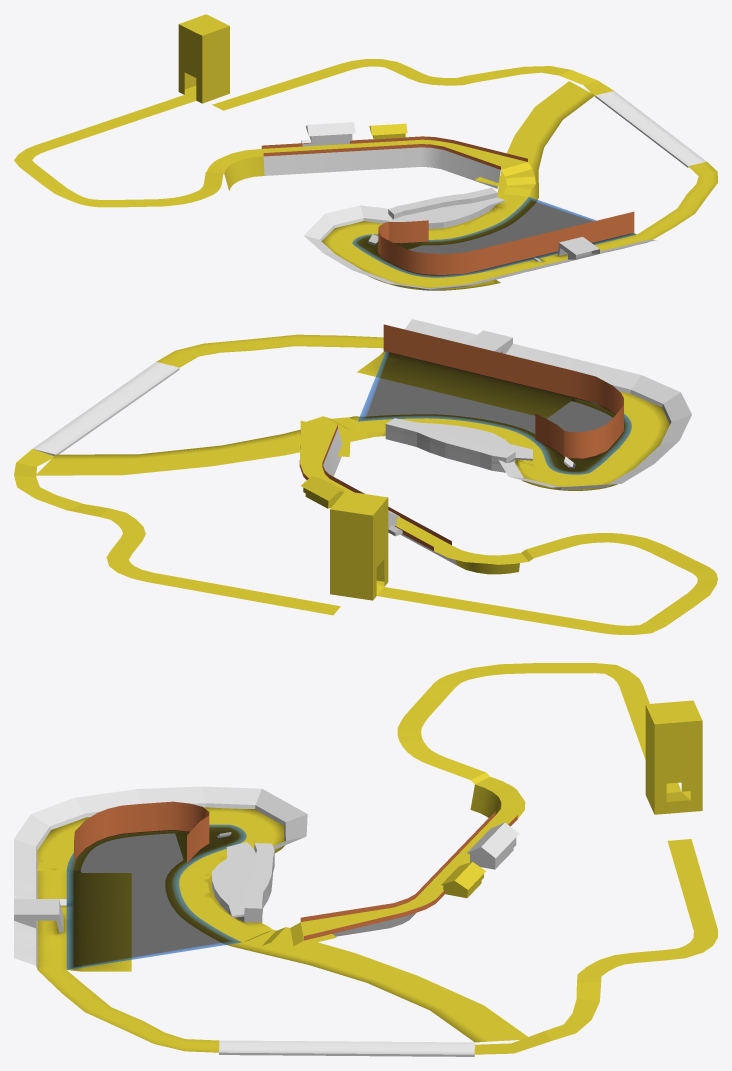
The picture shows the model from 3 angles, top to bottom: view 1: azimuth 30°, elevation 25°; view 2: azimuth 150°, elevation 25°; view 3: azimuth 270°, elevation 25°; orthographic projection. The views are drawn at different scales.
Visible parts, largest first — view 1: Plane.002, Curve_1.010, Curve_1.013, Curve_1.007, Curve_1.006, Curve_1.001, Curve_1.012, Curve_1, Curve_1.005, Cube.003, Plane.004, Curve_1.002 (+8 smaller); view 2: Curve_1.013, Plane.002, Curve_1.007, Curve_1.006, Curve_1.012, Curve_1.005, Plane, Curve_1.001, Curve_1, Cube.003, Plane.004, gREEN (+7 smaller); view 3: Curve_1.013, Plane, Curve_1.005, Plane.004, Curve_1.012, Curve_1.006, Curve_1.007, Curve_1.001, Curve_1, Plane.002, Cube.003, gREEN (+8 smaller).
Boxes of the visible parts, bbox=[...] form: Plane.002: bbox=[378, 211, 634, 275]; Curve_1.010: bbox=[224, 147, 500, 190]; Curve_1.013: bbox=[352, 197, 635, 277]; Curve_1.007: bbox=[14, 95, 223, 207]; Curve_1.006: bbox=[178, 14, 229, 103]; Curve_1.001: bbox=[321, 193, 538, 290]; Curve_1.012: bbox=[212, 59, 613, 110]; Curve_1: bbox=[330, 176, 528, 286]; Curve_1.005: bbox=[497, 81, 594, 197]; Cube.003: bbox=[388, 187, 504, 229]; Plane.004: bbox=[304, 205, 504, 290]; Curve_1.002: bbox=[207, 139, 527, 173]; Curve_1.013: bbox=[358, 351, 631, 474]; Plane.002: bbox=[383, 324, 623, 458]; Curve_1.007: bbox=[377, 533, 717, 634]; Curve_1.006: bbox=[330, 491, 388, 600]; Curve_1.012: bbox=[14, 449, 340, 615]; Curve_1.005: bbox=[36, 416, 368, 475]; Plane: bbox=[357, 351, 573, 418]; Curve_1.001: bbox=[354, 391, 669, 490]; Curve_1: bbox=[337, 395, 659, 486]; Cube.003: bbox=[385, 418, 532, 472]; Plane.004: bbox=[499, 365, 691, 489]; gREEN: bbox=[32, 362, 179, 456]; Curve_1.013: bbox=[66, 824, 246, 969]; Plane: bbox=[37, 871, 131, 971]; Curve_1.005: bbox=[233, 929, 527, 1042]; Plane.004: bbox=[14, 786, 307, 870]; Curve_1.012: bbox=[474, 839, 717, 1054]; Curve_1.006: bbox=[645, 700, 702, 814]; Curve_1.007: bbox=[397, 663, 681, 792]; Curve_1.001: bbox=[37, 807, 285, 946]; Curve_1: bbox=[37, 812, 336, 948]; Plane.002: bbox=[74, 801, 209, 868]; Cube.003: bbox=[212, 842, 274, 922]; gREEN: bbox=[219, 1040, 474, 1056].
Bounding box in the file's own units: 69913 × 11898 × 58017.
